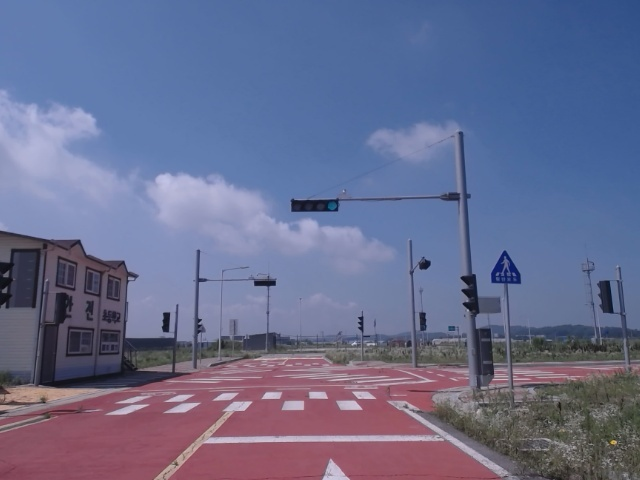straight_green_4: (291, 201, 340, 213)
